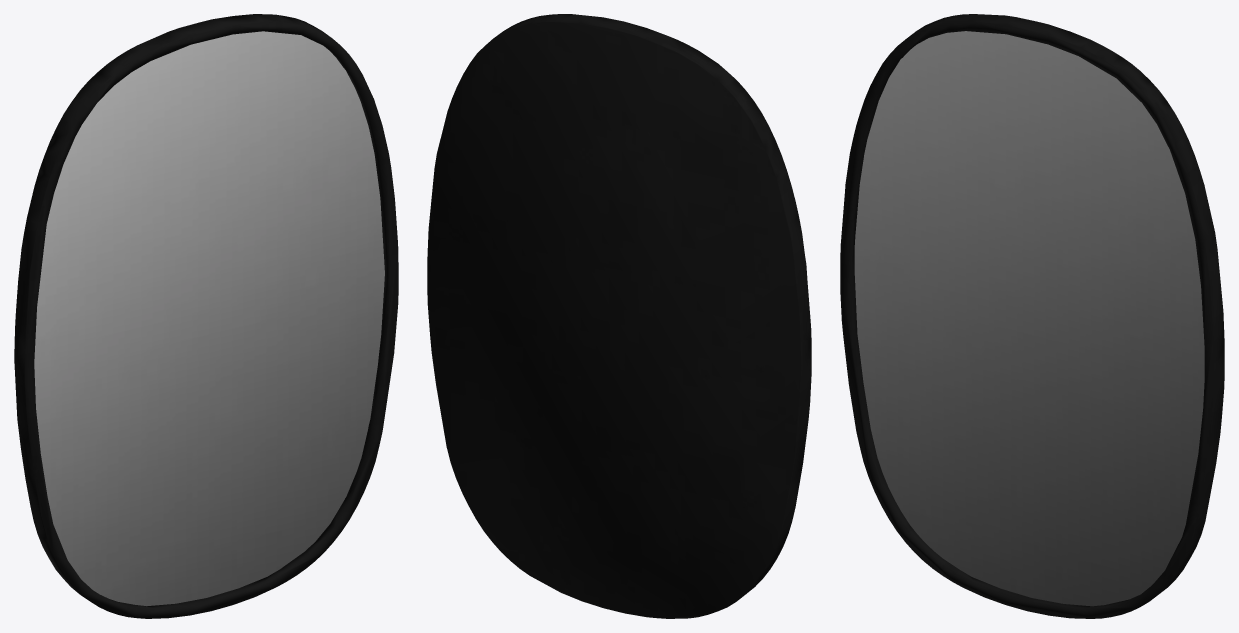
Rendered from abo-B07B92C9WT.glb.
The picture shows the model from 3 angles, left to right: view 1: azimuth 30°, elevation 25°; view 2: azimuth 150°, elevation 25°; view 3: azimuth 330°, elevation 25°; orthographic projection.
Parts seen in each view (by area): view 1: RootNode; view 2: RootNode; view 3: RootNode.
Part boxes in pixels (x1,y1,x2,y2): RootNode: (14,14,398,618); RootNode: (427,14,811,618); RootNode: (840,14,1224,618).
Bounding box in the file's own units: 0.7241 × 1.07 × 0.0367.
Materials: 1 (1 with a texture image).
